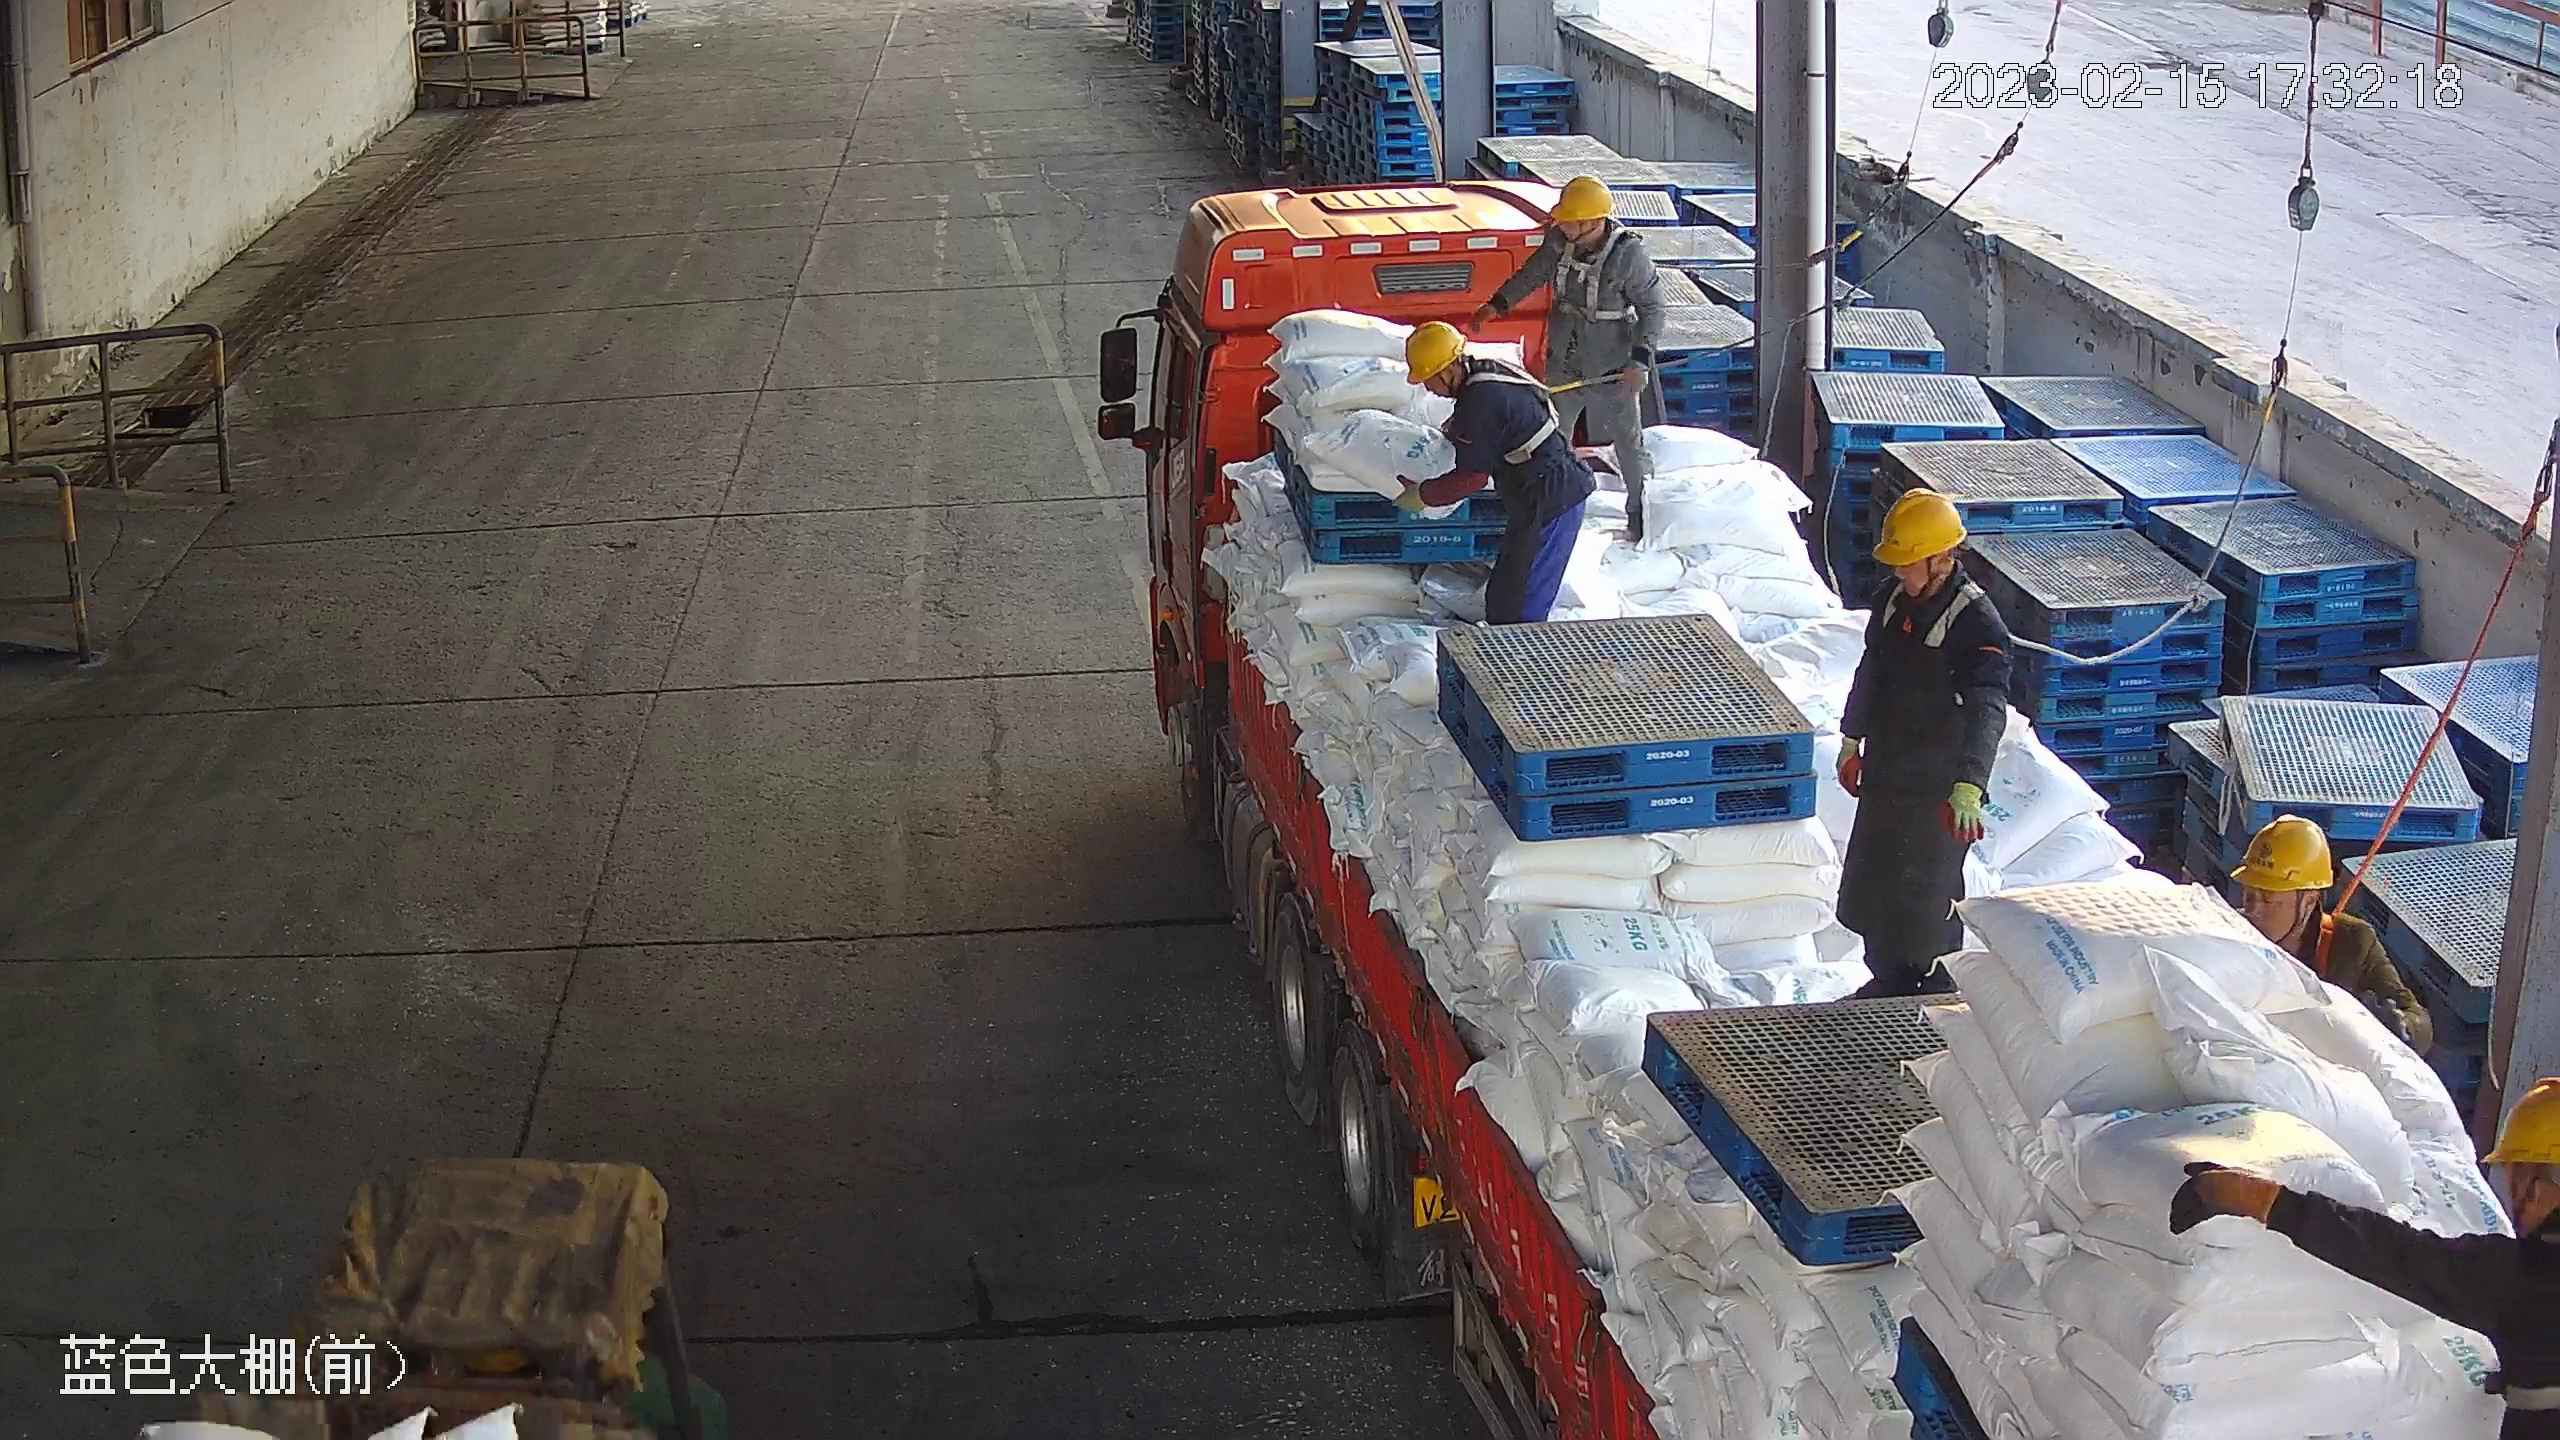belt: (1878, 572, 2038, 665), (1464, 356, 1586, 466), (2276, 881, 2395, 983), (1549, 224, 1645, 321)
head: (1864, 486, 2018, 654), (1403, 319, 1558, 422), (1541, 174, 1652, 272)
helmet: (2229, 813, 2335, 892), (1872, 487, 1969, 566), (1401, 319, 1469, 385), (1547, 175, 1615, 223)
people: (1831, 485, 2013, 1003), (1469, 175, 1669, 544), (1393, 316, 1600, 629)
truck: (1143, 177, 2560, 1440)
